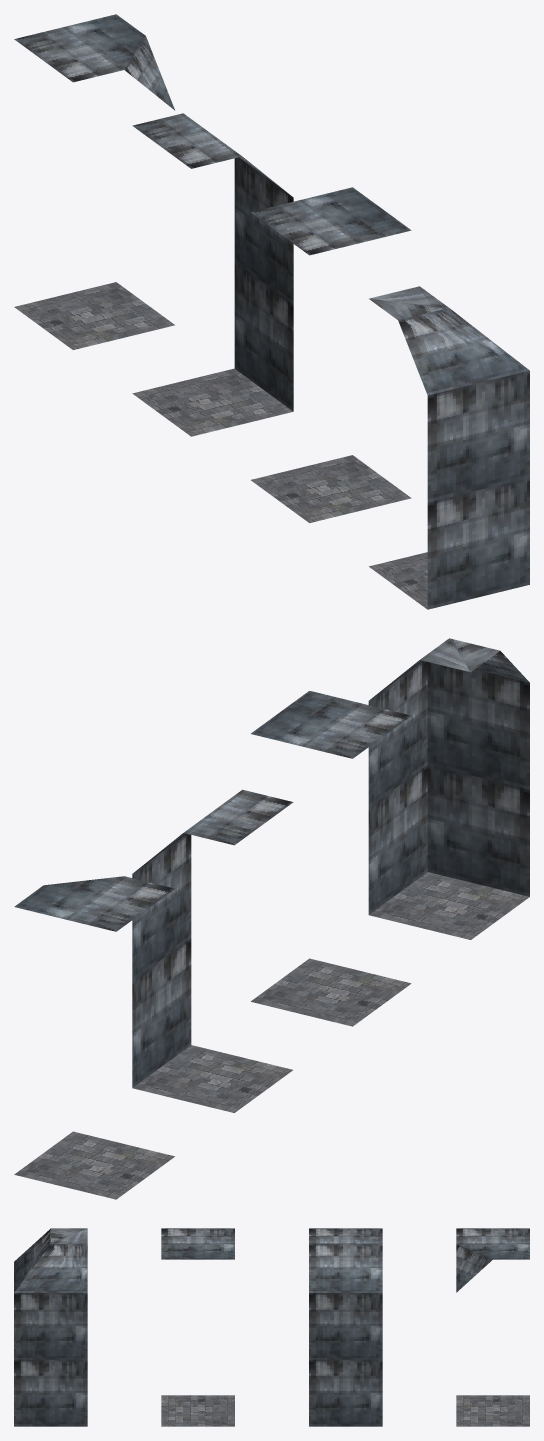
Rendered from dungeon_assets.glb.
3 renders of one model, top to bottom at view 1: azimuth 30°, elevation 25°; view 2: azimuth 150°, elevation 25°; view 3: azimuth 270°, elevation 25°, orthographic. The views are drawn at different scales.
Visible parts, largest first — view 1: corner-in-col, wall-col, corner-out-col, floor-col; view 2: corner-in-col, wall-col, floor-col, corner-out-col; view 3: wall-col, corner-in-col, corner-out-col, floor-col.
Boxes of the visible parts, x1,y1,x2,y2 form: corner-in-col: (369, 286, 529, 609); wall-col: (132, 113, 293, 436); corner-out-col: (14, 14, 174, 349); floor-col: (250, 187, 411, 523); corner-in-col: (368, 638, 529, 939); wall-col: (132, 789, 293, 1112); floor-col: (251, 690, 411, 1026); corner-out-col: (14, 876, 174, 1199); wall-col: (309, 1228, 382, 1426); corner-in-col: (14, 1228, 87, 1426); corner-out-col: (456, 1228, 529, 1426); floor-col: (161, 1228, 234, 1426).
Bounding box in the file's own units: 1 × 2.5 × 7.
1 material, 1 textured.
